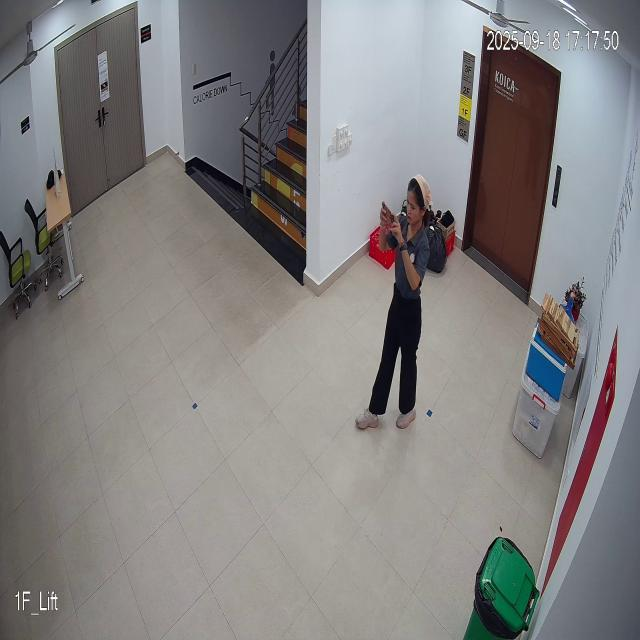face: (405, 170, 430, 233)
